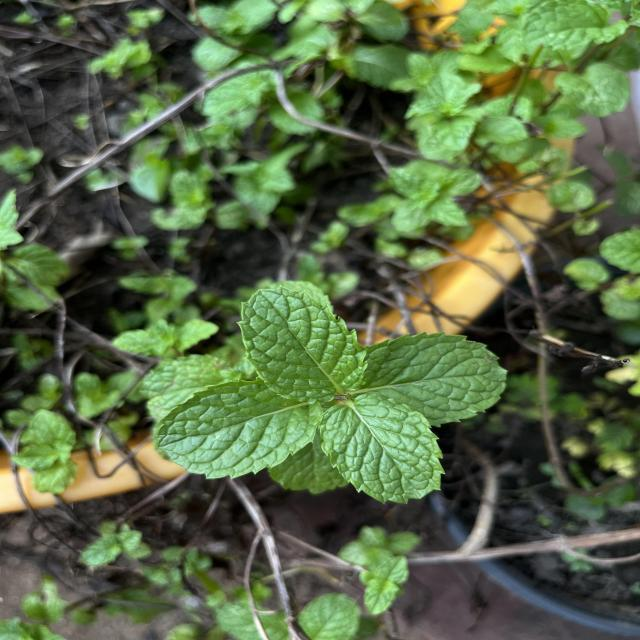Mentha spicata: (155, 376, 325, 481), (236, 284, 370, 406), (318, 392, 448, 506), (364, 331, 508, 428)
